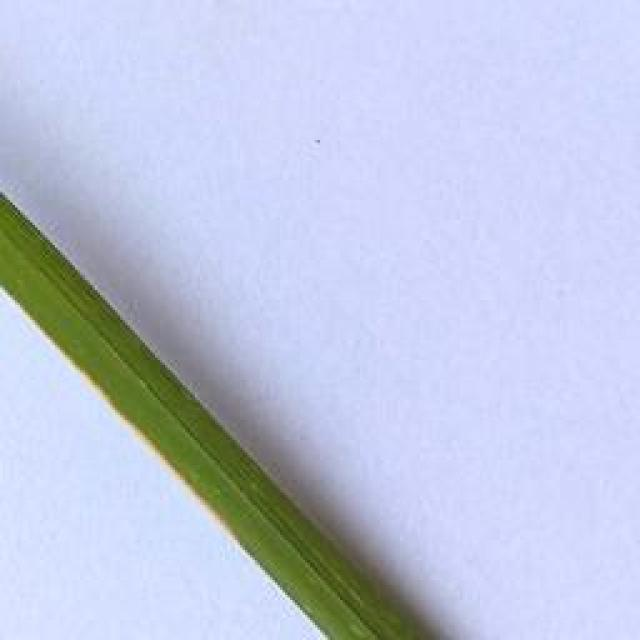Healthy-Plant: (0, 195, 400, 640)
